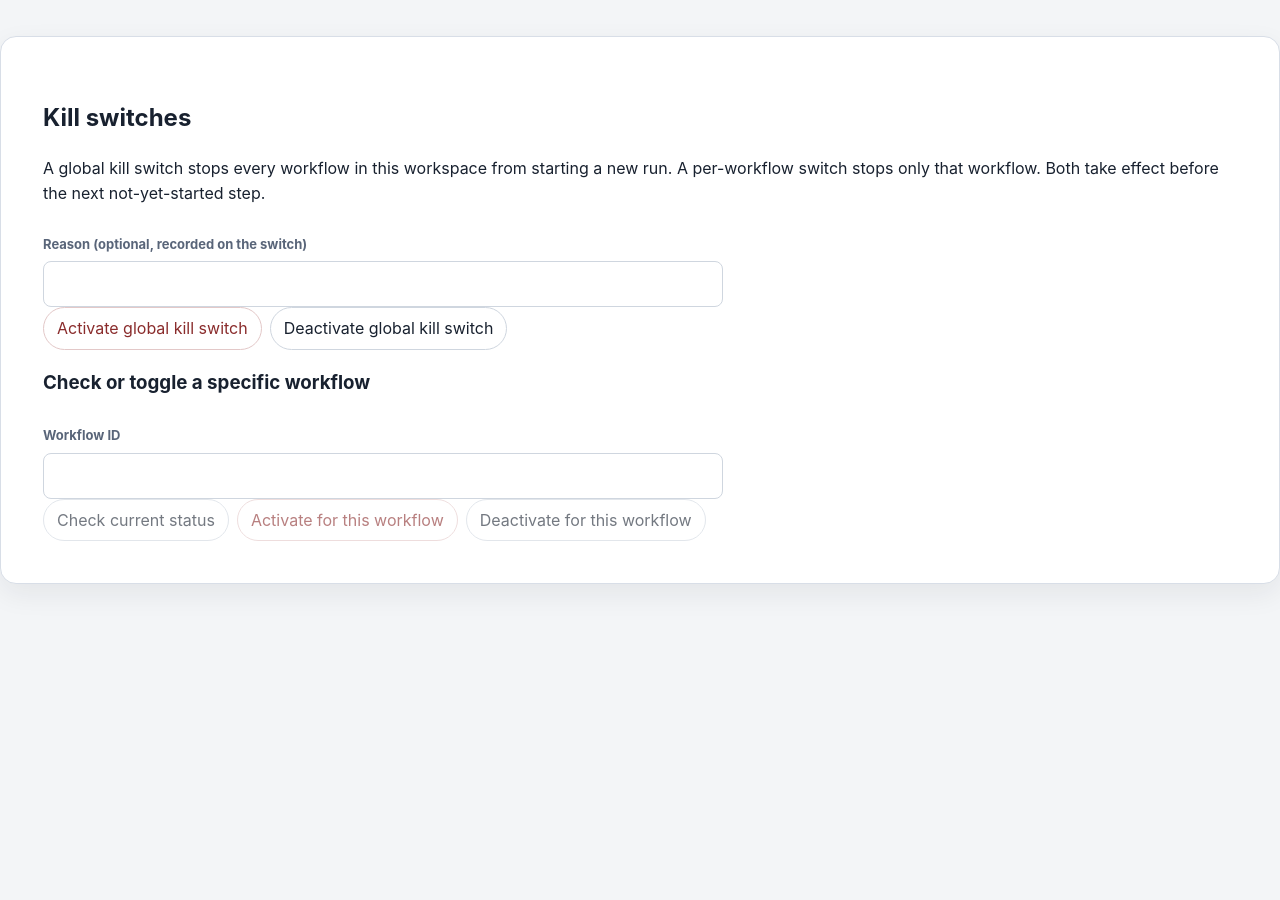
Test: KillSwitchPanel › checks a workflow's current kill-switch status before any run would be attempted
The width and height of the screenshot is (1280, 900).
Type "weekly-digest" into the field named "Workflow ID to check" at (383, 476), box [43,452,723,499]
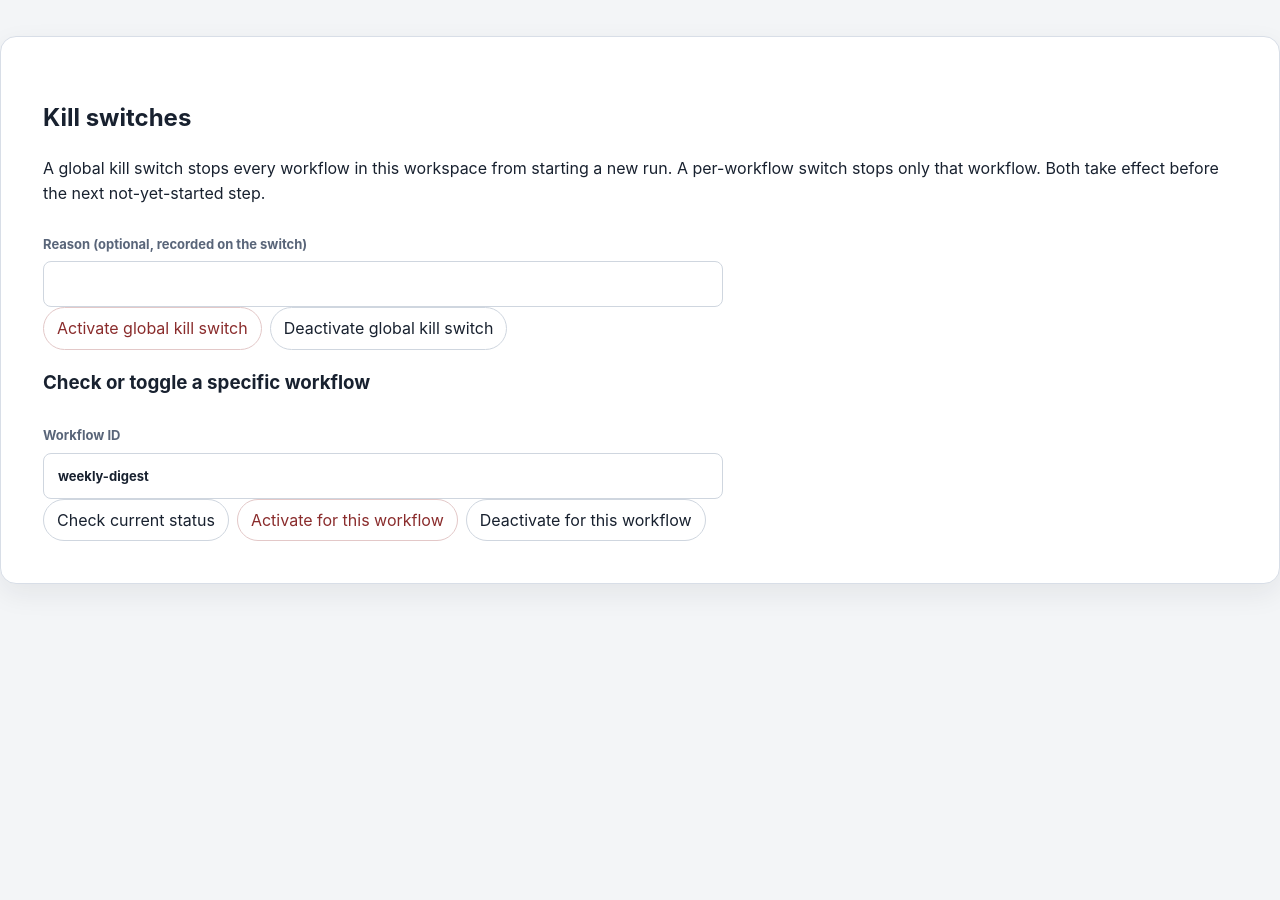
Click the button "Check current status" at (136, 520), box [43,499,229,542]
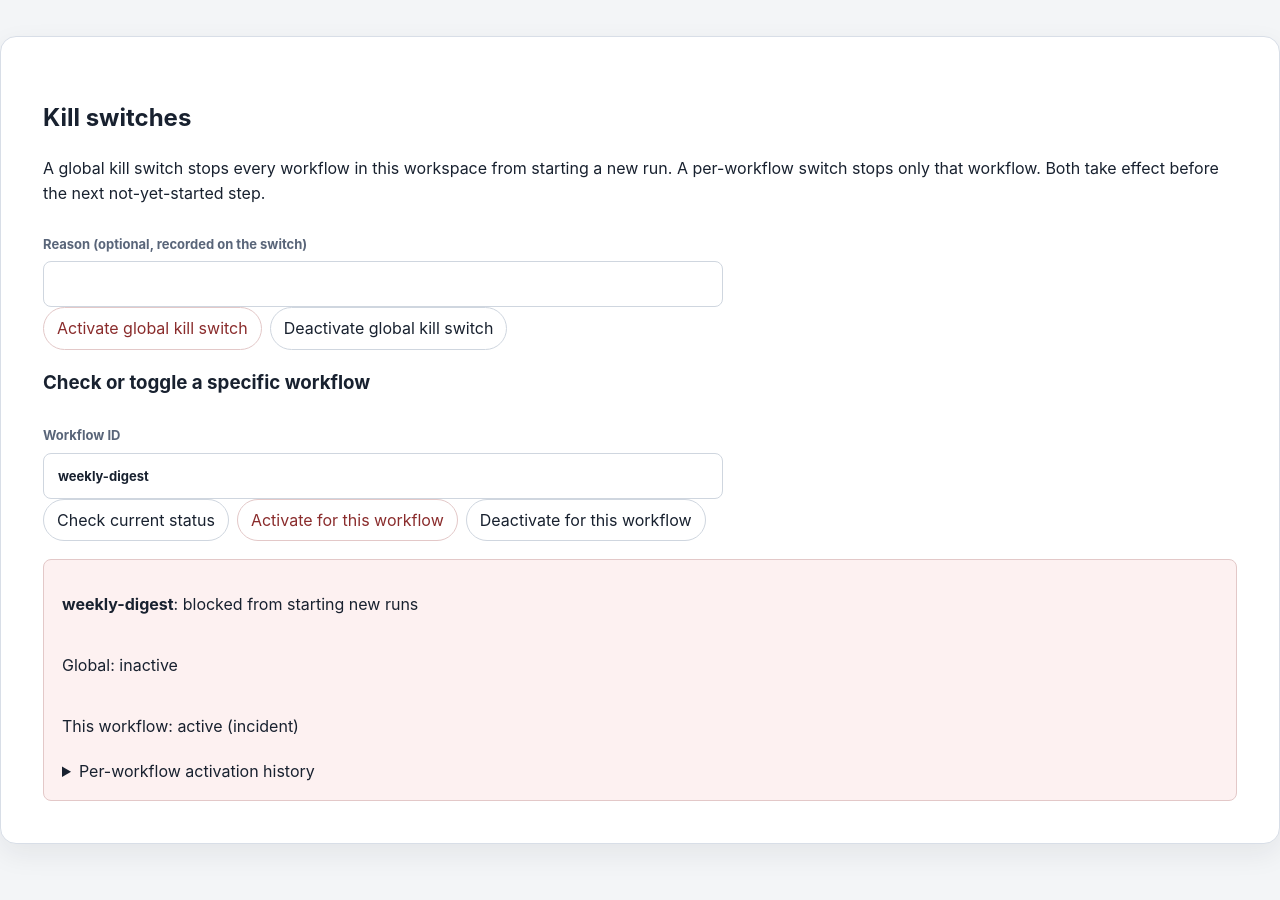
Expected: the text "weekly-digest: blocked from starting new runs" is shown, [62,594,418,614]
Expected: the text "This workflow: active (incident)" is shown, [62,716,299,736]
